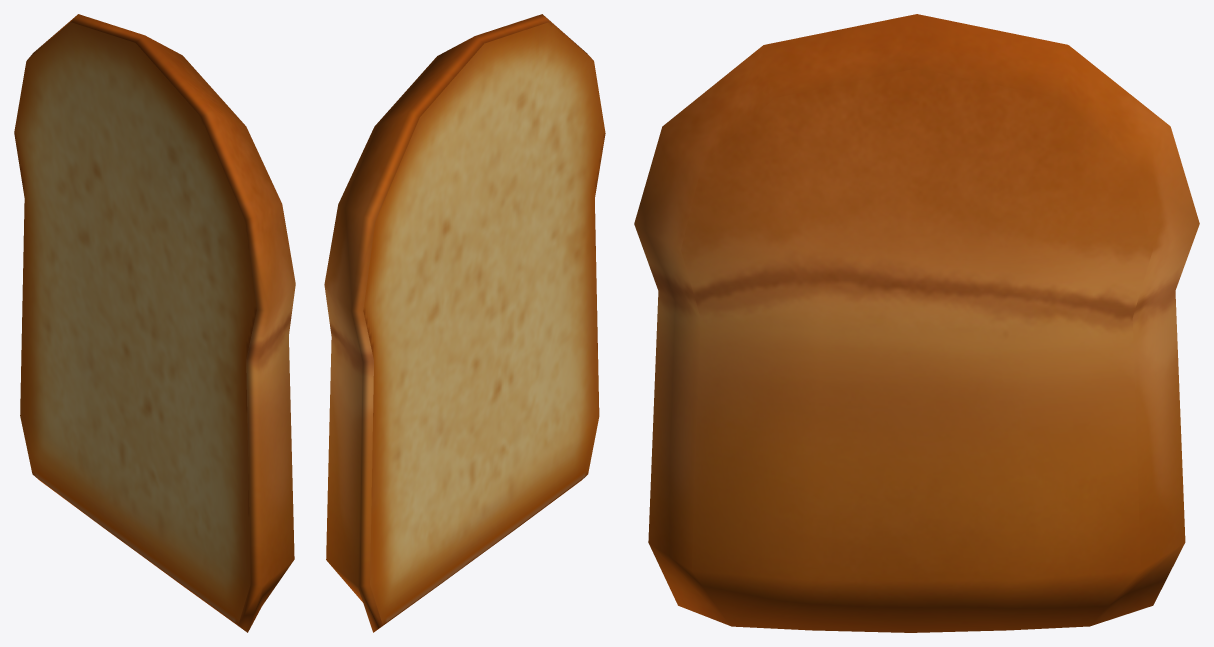
File: Loaf_Sliced_Butt.fbx
3 renders of one model, left to right at view 1: azimuth 30°, elevation 25°; view 2: azimuth 150°, elevation 25°; view 3: azimuth 270°, elevation 25°, orthographic. The views are drawn at different scales.
Parts seen in each view (by area): view 1: Loaf_Sliced_Butt; view 2: Loaf_Sliced_Butt; view 3: Loaf_Sliced_Butt.
Boxes of the visible parts, left/top/right/bottom form: Loaf_Sliced_Butt: left=14, top=14, right=295, bottom=632; Loaf_Sliced_Butt: left=324, top=14, right=605, bottom=632; Loaf_Sliced_Butt: left=634, top=14, right=1199, bottom=632.
Size of the model in its own units: 6.26 by 39.47 by 34.13.
